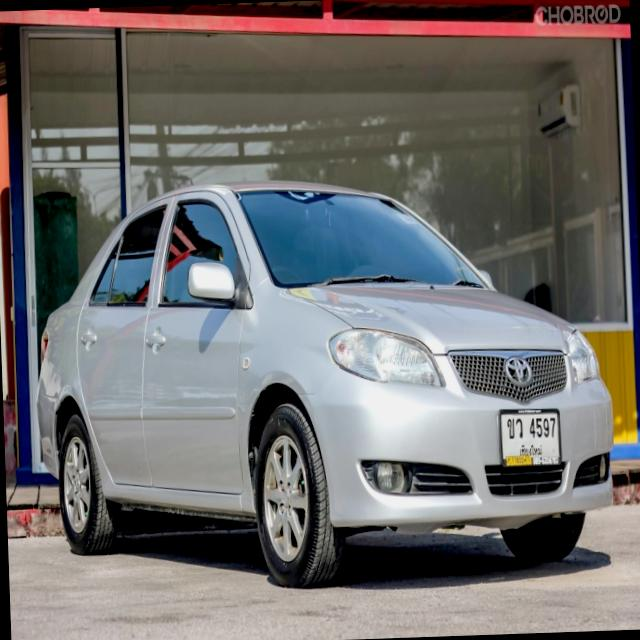license_plate: (496, 402, 566, 476)
